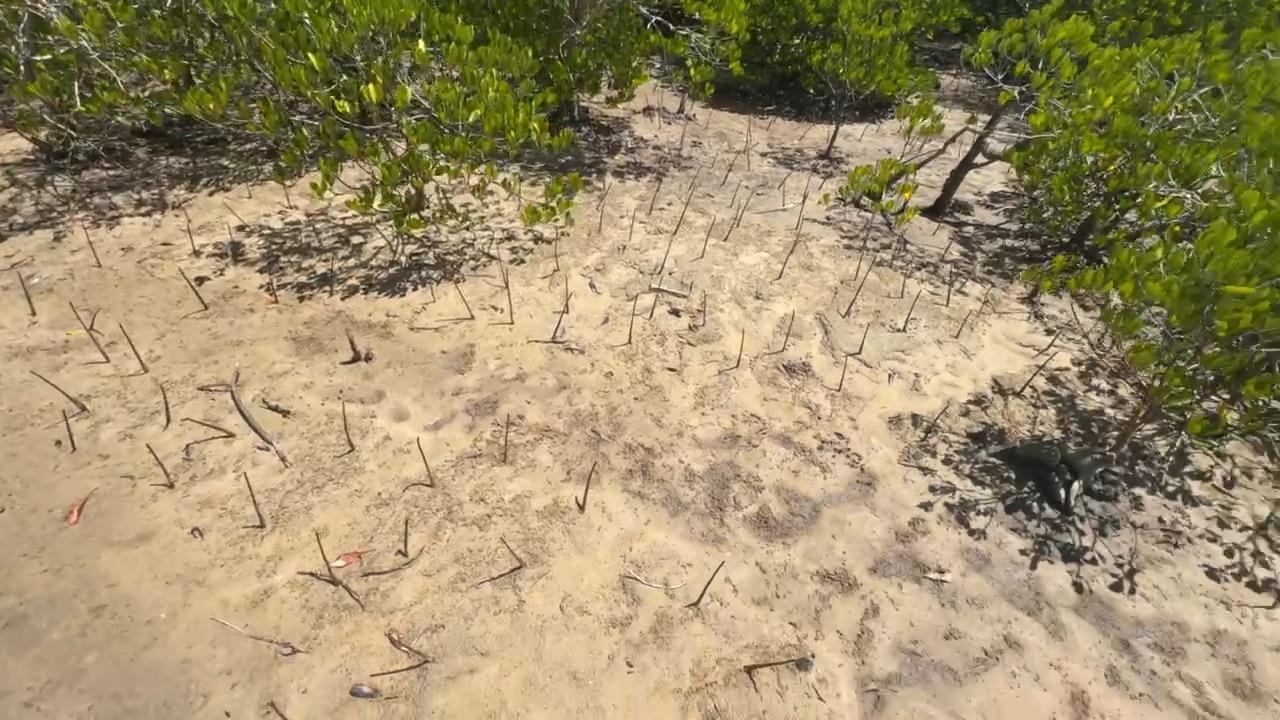Tree: (344, 182, 395, 254), (209, 616, 298, 651), (68, 301, 112, 363), (28, 370, 88, 411), (842, 255, 877, 318), (1016, 351, 1060, 395), (547, 210, 575, 271), (1030, 320, 1072, 358), (118, 323, 150, 372), (384, 631, 431, 663), (177, 266, 209, 310), (695, 560, 725, 604), (145, 442, 173, 488), (314, 530, 337, 585), (243, 472, 265, 528), (180, 416, 235, 438), (269, 161, 293, 210), (673, 186, 696, 235), (551, 292, 573, 339), (921, 405, 949, 441), (453, 280, 476, 320), (16, 271, 36, 316), (82, 223, 102, 268), (722, 197, 742, 242), (581, 460, 598, 511), (417, 436, 434, 487), (778, 241, 800, 280), (902, 289, 922, 331), (500, 536, 526, 567), (222, 202, 251, 229), (720, 149, 740, 188), (889, 228, 908, 268), (736, 189, 755, 228), (854, 236, 870, 281), (742, 658, 797, 671), (342, 400, 356, 450), (700, 214, 716, 257), (863, 202, 882, 237), (649, 275, 664, 319), (794, 191, 810, 230), (781, 309, 795, 352), (894, 102, 912, 134), (62, 409, 76, 450), (628, 292, 639, 344), (496, 241, 508, 288), (647, 176, 661, 215), (505, 266, 514, 325), (160, 385, 171, 432), (955, 309, 972, 339), (595, 182, 613, 210), (837, 352, 848, 393), (965, 112, 979, 144), (858, 322, 871, 355), (687, 165, 702, 191), (730, 179, 743, 209), (792, 214, 805, 244), (186, 221, 197, 254), (268, 700, 286, 720), (736, 328, 745, 368), (503, 413, 510, 463), (802, 170, 813, 201), (777, 169, 793, 190), (818, 170, 833, 191), (268, 272, 278, 303), (628, 208, 637, 242), (946, 265, 953, 307), (931, 215, 944, 236), (644, 93, 653, 123), (745, 128, 751, 173), (679, 124, 687, 156), (329, 255, 335, 295), (941, 238, 953, 258), (404, 518, 410, 557), (179, 204, 191, 223), (798, 125, 812, 141), (658, 89, 663, 130), (746, 114, 753, 143), (598, 203, 605, 231), (564, 274, 569, 313), (901, 271, 908, 298), (226, 223, 235, 243), (858, 125, 869, 141), (244, 179, 252, 199), (711, 152, 719, 168), (958, 137, 964, 158), (766, 117, 774, 132), (1271, 594, 1280, 607), (703, 289, 706, 326), (782, 182, 786, 209), (430, 285, 436, 302), (875, 123, 882, 134)
